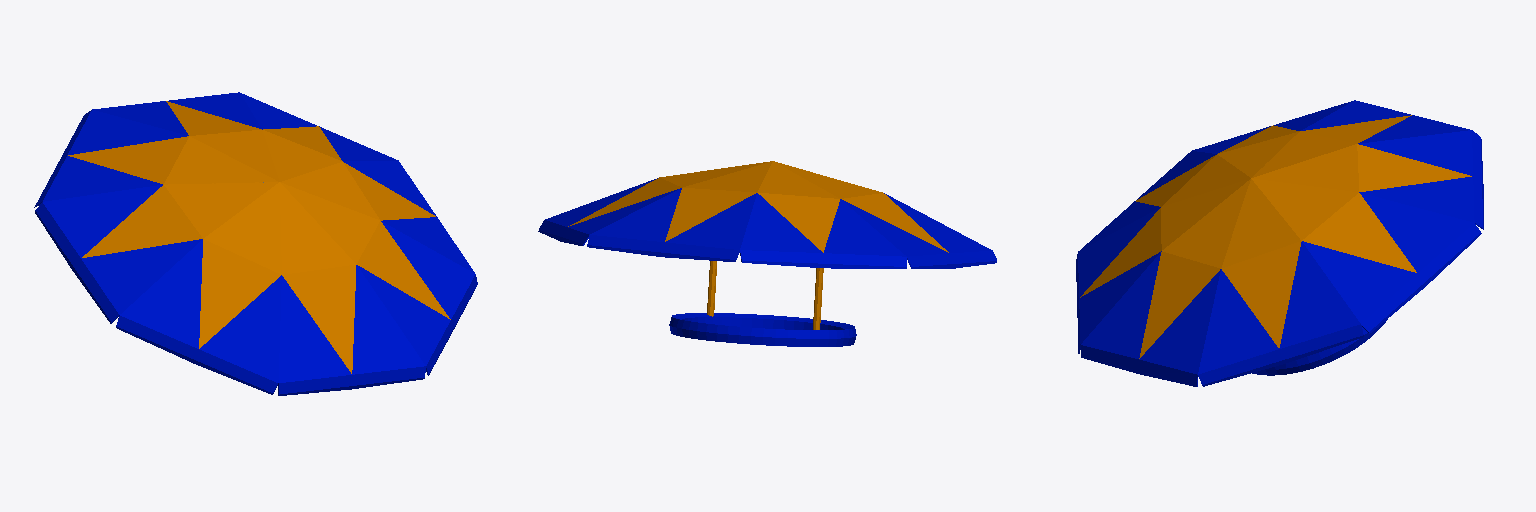
Rendered from umbrellahat_basic.sgm.obj.
The picture shows the model from 3 angles: view 1: azimuth 30°, elevation 25°; view 2: azimuth 150°, elevation 25°; view 3: azimuth 270°, elevation 25°; orthographic projection.
Parts seen in each view (by area): view 1: 0, 2; view 2: 0, 2; view 3: 0, 2.
Boxes of the visible parts, x1,y1,x2,y2 form: 0: [34, 92, 477, 395]; 2: [68, 101, 450, 373]; 0: [538, 178, 996, 346]; 2: [568, 161, 948, 329]; 0: [1076, 100, 1483, 386]; 2: [1080, 115, 1471, 358].
Size of the model in its own units: 1.16 by 0.5855 by 1.1.